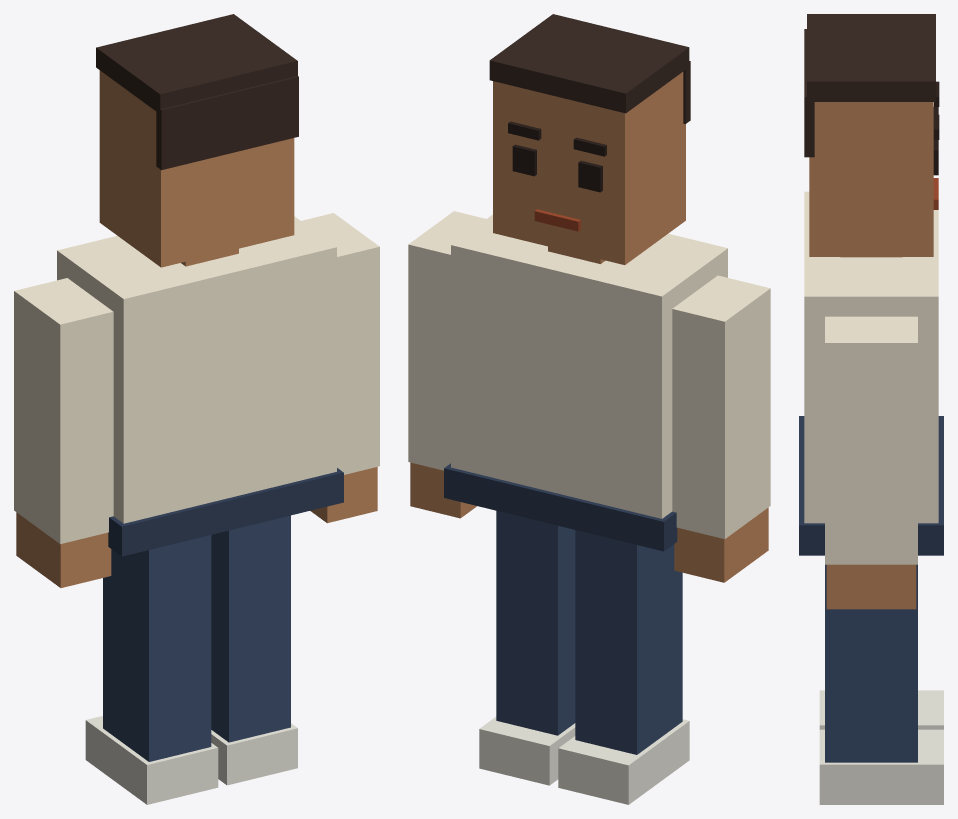
Rendered from clerk_diner.glb.
3 views of the same model, side by side, from view 1: azimuth 30°, elevation 25°; view 2: azimuth 150°, elevation 25°; view 3: azimuth 270°, elevation 25° (orthographic).
Parts seen in each view (by area): view 1: Box9, Box3, Box12, Box1, Box5, Box18, Box7, Box19, Box10, Box2, Box4, Box6 (+1 smaller); view 2: Box9, Box12, Box3, Box1, Box5, Box18, Box7, Box10, Box2, Box6, Box4, Box8 (+2 smaller); view 3: Box7, Box12, Box9, Box5, Box18, Box6, Box8, Box10, Box2, Box19.
Part boxes in pixels (left/top/right/bottom): Box9: left=57, top=216, right=336, bottom=523; Box3: left=14, top=278, right=113, bottom=544; Box12: left=99, top=70, right=294, bottom=267; Box1: left=103, top=535, right=211, bottom=761; Box5: left=211, top=515, right=290, bottom=742; Box18: left=96, top=14, right=297, bottom=113; Box7: left=301, top=213, right=379, bottom=474; Box19: left=156, top=76, right=298, bottom=170; Box10: left=108, top=468, right=343, bottom=556; Box2: left=85, top=716, right=218, bottom=804; Box4: left=16, top=512, right=111, bottom=587; Box6: left=211, top=723, right=297, bottom=785; Box9: left=451, top=214, right=727, bottom=518; Box12: left=493, top=72, right=685, bottom=264; Box3: left=672, top=275, right=770, bottom=538; Box1: left=575, top=530, right=682, bottom=754; Box5: left=496, top=510, right=575, bottom=735; Box18: left=489, top=14, right=689, bottom=113; Box7: left=408, top=211, right=485, bottom=470; Box10: left=444, top=463, right=677, bottom=551; Box2: left=558, top=719, right=689, bottom=804; Box6: left=479, top=717, right=575, bottom=785; Box4: left=674, top=507, right=768, bottom=582; Box8: left=410, top=462, right=476, bottom=518; Box7: left=825, top=316, right=917, bottom=564; Box12: left=809, top=102, right=933, bottom=256; Box9: left=804, top=191, right=938, bottom=523; Box5: left=825, top=564, right=917, bottom=762; Box18: left=807, top=14, right=935, bottom=101; Box6: left=819, top=729, right=943, bottom=804; Box8: left=826, top=564, right=916, bottom=609; Box10: left=799, top=416, right=943, bottom=555; Box2: left=819, top=690, right=943, bottom=729; Box19: left=804, top=29, right=814, bottom=157.
Bounding box in the file's own units: 0.8165 × 1.74 × 0.3175.
